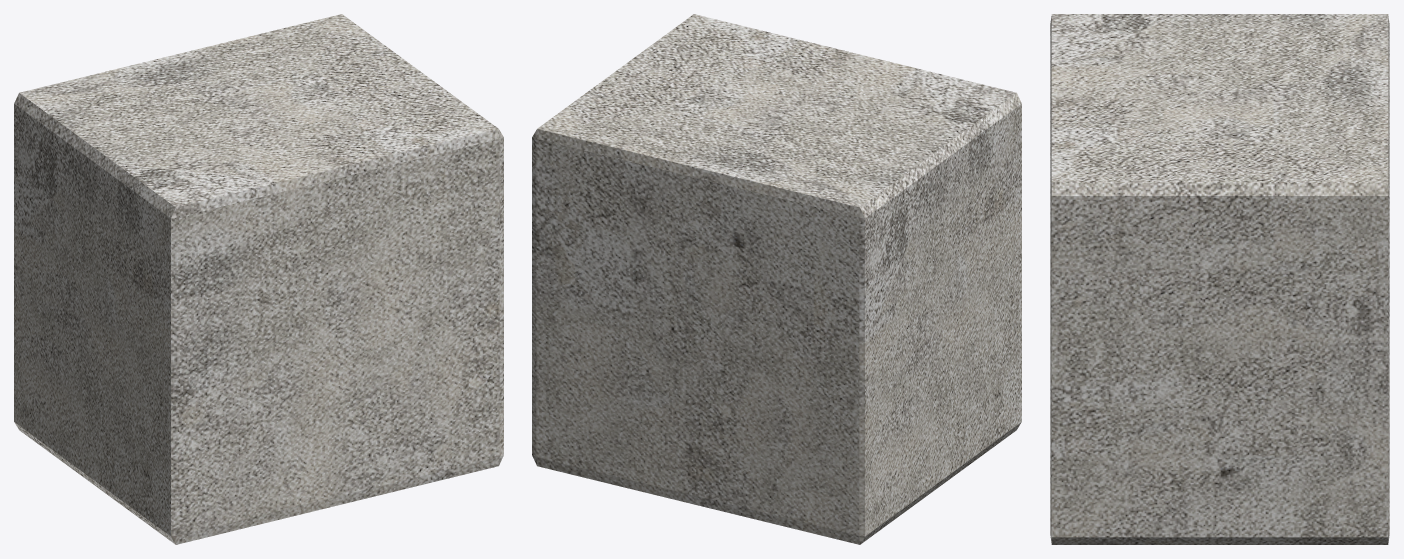
The model's file is SM_JSH_StoneB.fbx.
3 renders of one model, left to right at view 1: azimuth 30°, elevation 25°; view 2: azimuth 150°, elevation 25°; view 3: azimuth 270°, elevation 25°, orthographic. The views are drawn at different scales.
Visible parts, largest first — view 1: SM_JSH_StoneB; view 2: SM_JSH_StoneB; view 3: SM_JSH_StoneB.
Boxes of the visible parts, x1,y1,x2,y2 form: SM_JSH_StoneB: (14,14,503,544); SM_JSH_StoneB: (532,14,1021,544); SM_JSH_StoneB: (1050,14,1389,544).
Bounding box in the file's own units: 28.2 × 23.2 × 27.31.
Materials: 1 (1 with a texture image).
